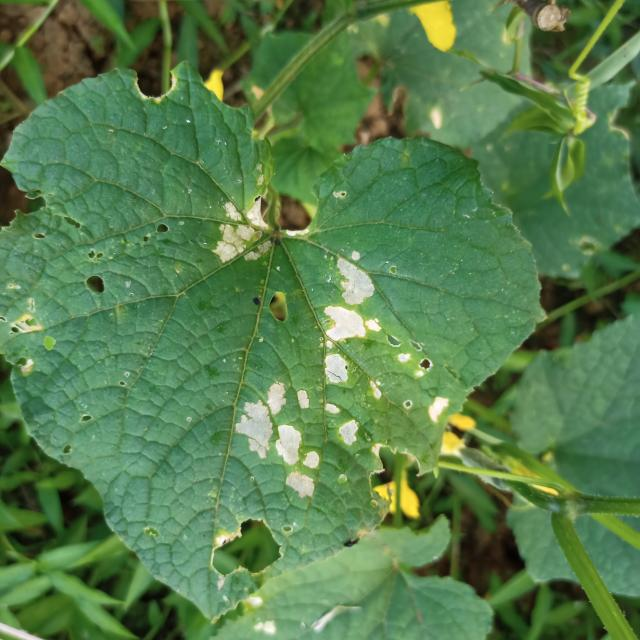disease_cucumber: (311, 251, 435, 443), (224, 379, 324, 510), (196, 177, 273, 275)
